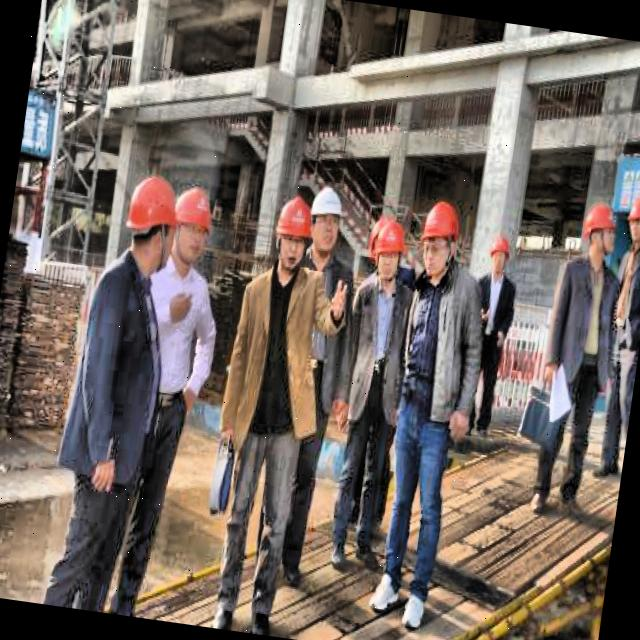helmet: (119, 170, 185, 278), (165, 182, 218, 272), (267, 190, 317, 280), (414, 198, 466, 282), (304, 180, 350, 261), (364, 216, 410, 288), (578, 199, 620, 268), (484, 230, 516, 281), (619, 191, 640, 250)
